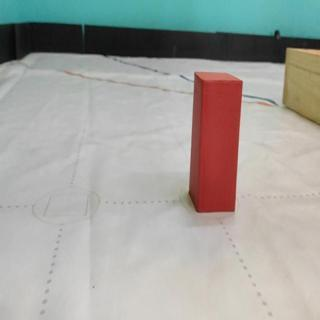redbox: (191, 69, 243, 212)
